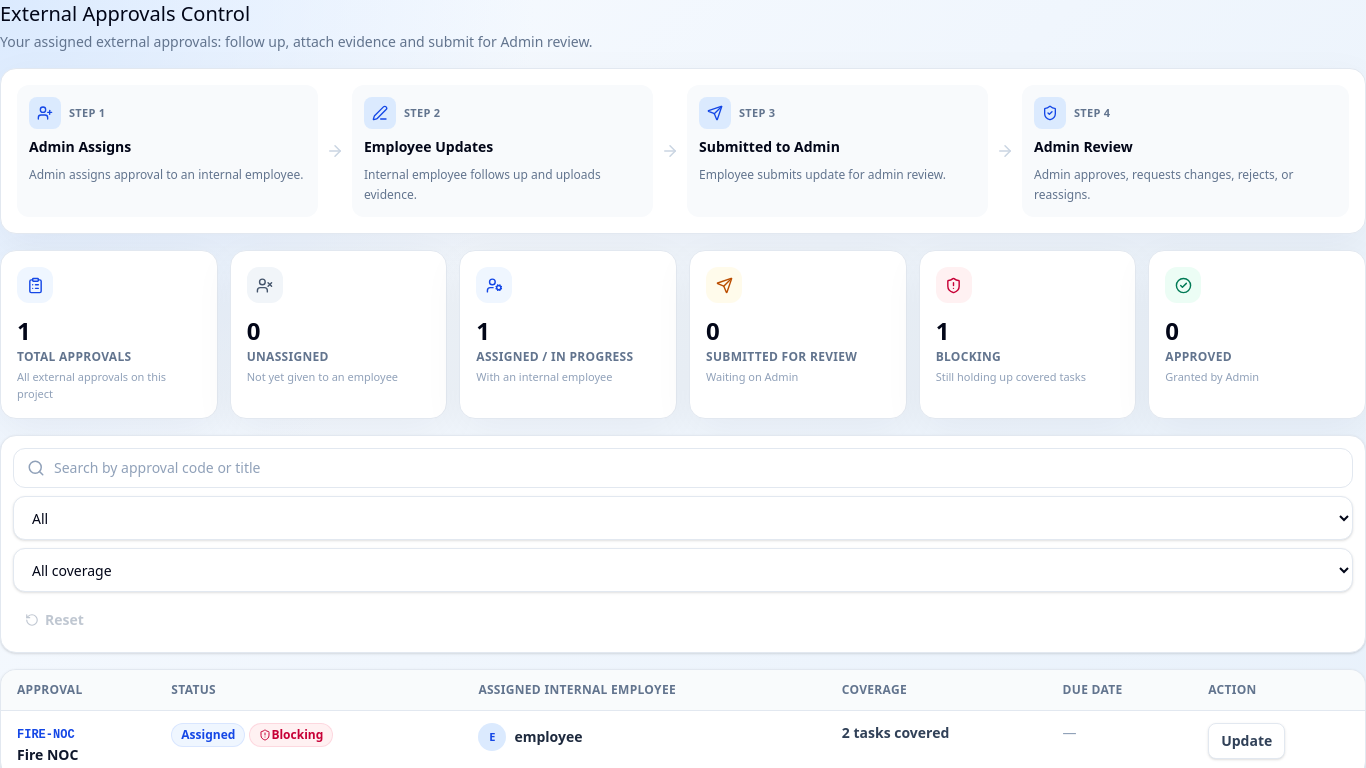
Scenario: ExternalApprovalsPanel › shows the assignee an update/submit form on their own assigned approval
Click the text "FIRE-NOC" at (46, 735), box x1=17 y1=728 x2=75 y2=742
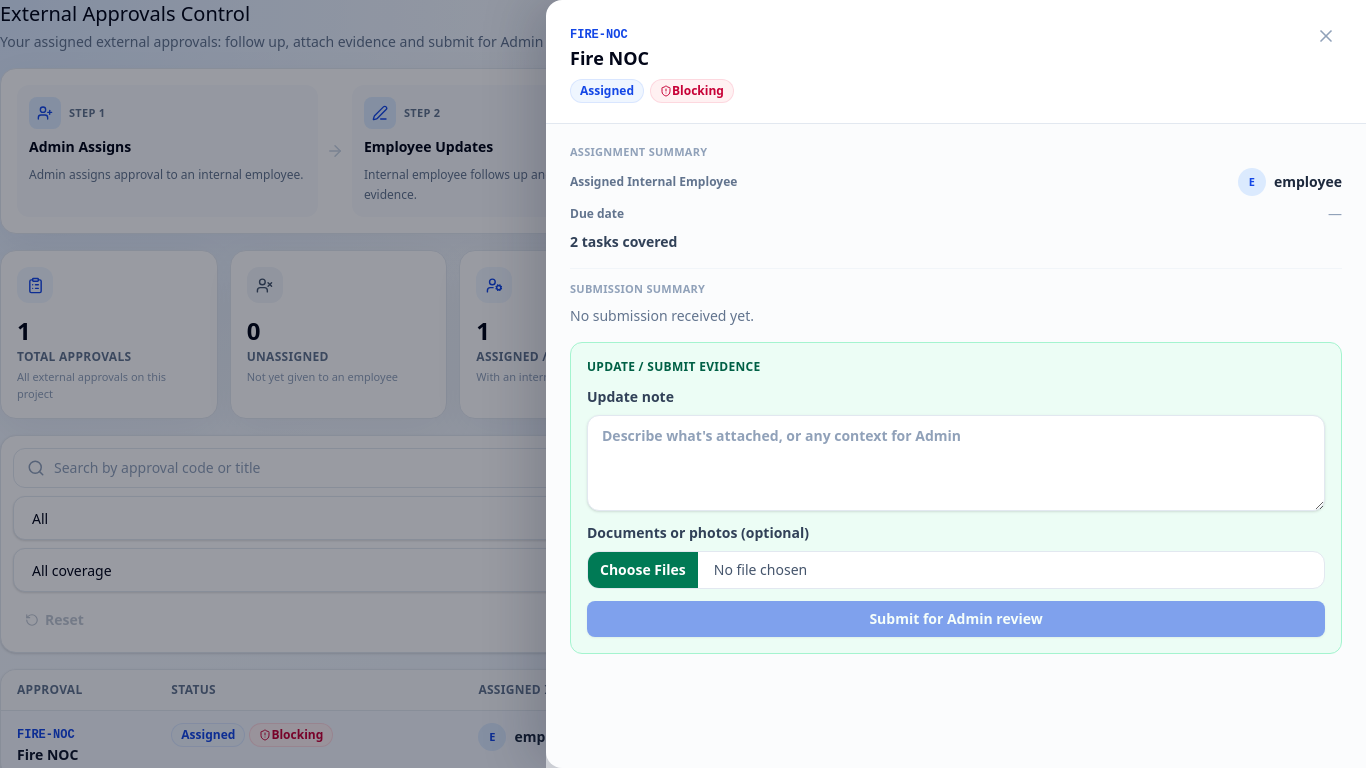
Now the heading "Update / submit evidence" is shown, box x1=587 y1=358 x2=760 y2=375
